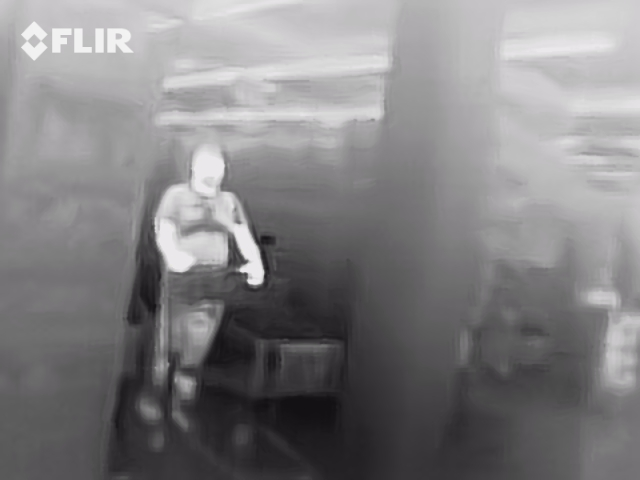head: (190, 142, 225, 188)
